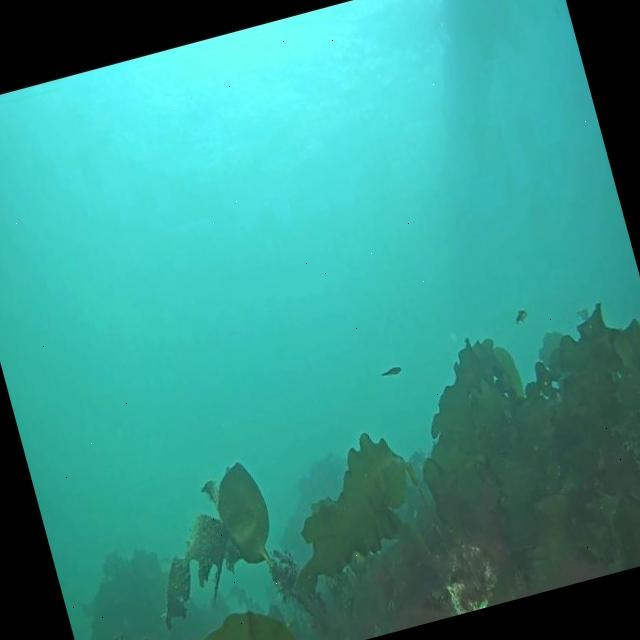fish: (510, 306, 530, 326), (379, 362, 404, 378)
